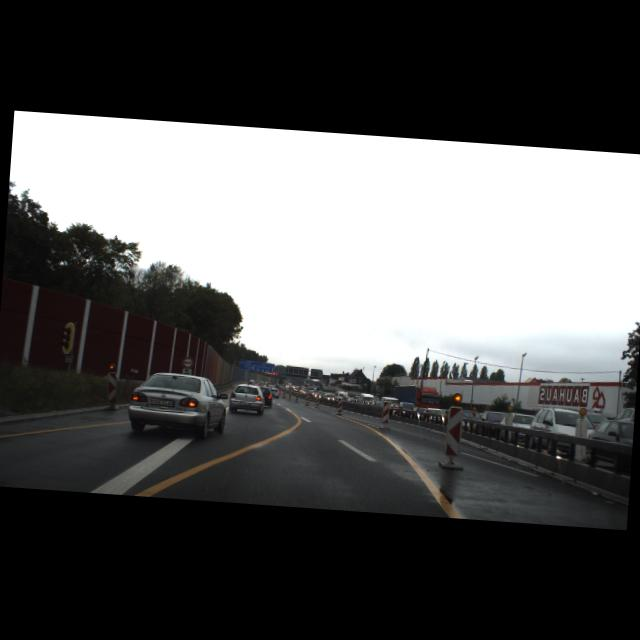prohibitory: (181, 356, 194, 369)
